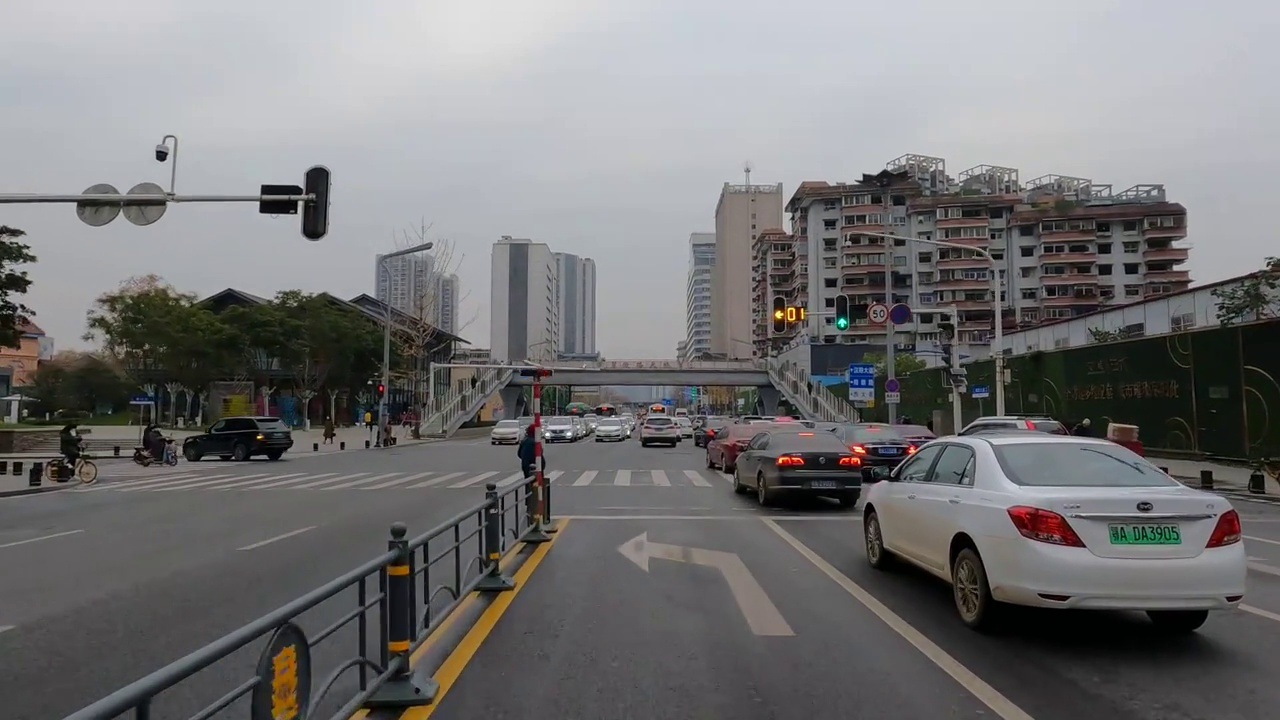lane: (743, 515, 1020, 720), (355, 520, 588, 720), (238, 521, 321, 548)
